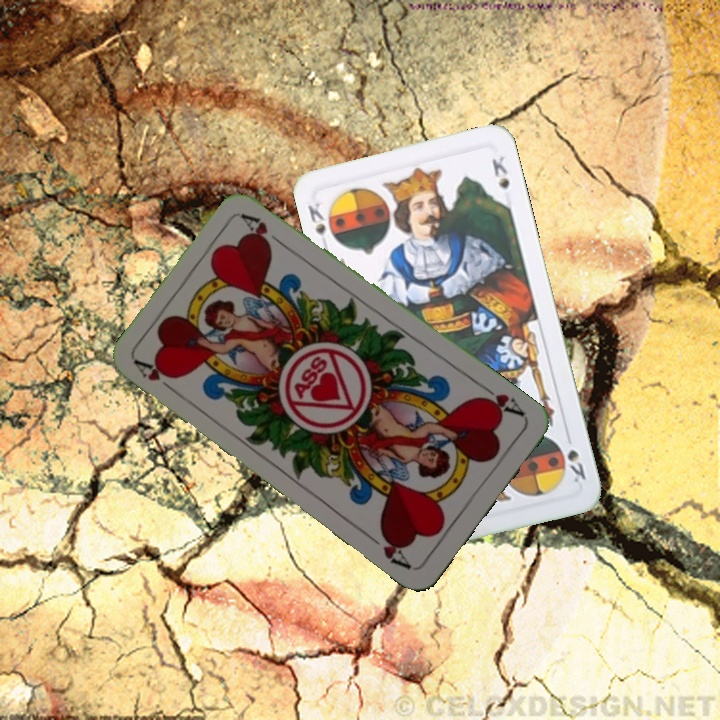HA: (131, 356, 182, 399), (474, 379, 527, 419)
SK: (563, 445, 589, 486), (303, 198, 328, 239)
